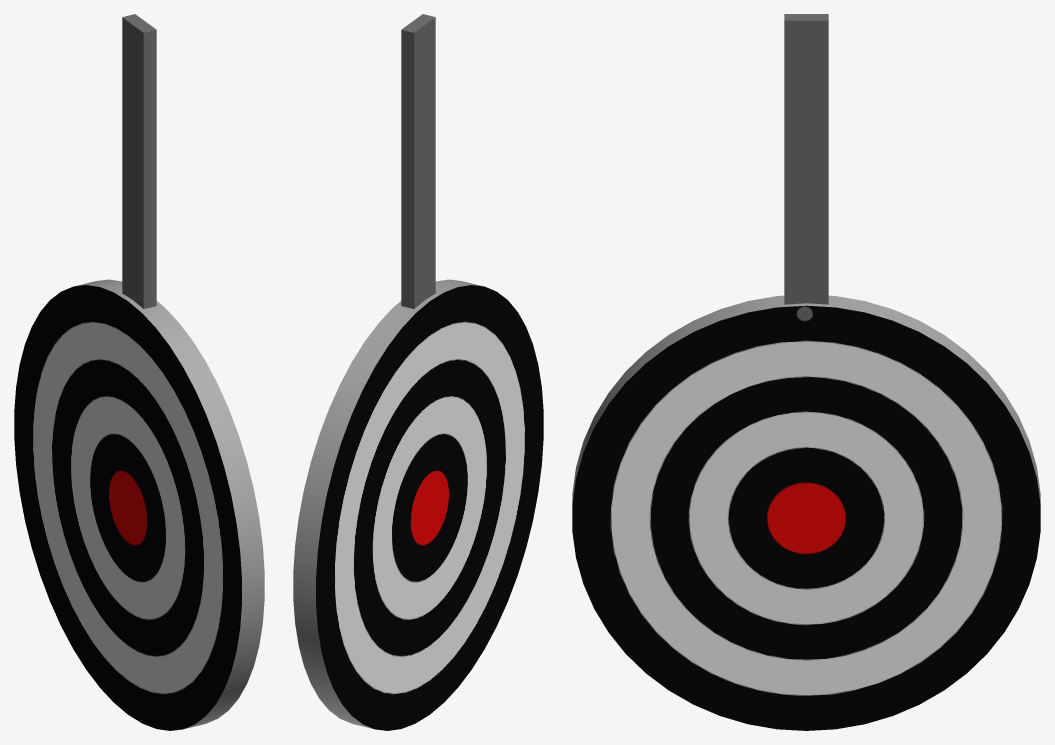
File: 瞄准靶-1 1.obj
3 views of the same model, side by side, from view 1: azimuth 30°, elevation 25°; view 2: azimuth 150°, elevation 25°; view 3: azimuth 270°, elevation 25° (orthographic). The views are drawn at different scales.
Parts seen in each view (by area): view 1: pCube3_meshId0_name; view 2: pCube3_meshId0_name; view 3: pCube3_meshId0_name.
Boxes of the visible parts, x1,y1,x2,y2 form: pCube3_meshId0_name: (14, 14, 264, 730); pCube3_meshId0_name: (293, 14, 543, 730); pCube3_meshId0_name: (572, 14, 1040, 730).
Size of the model in its own units: 0.00212 by 0.0615 by 0.0368.
